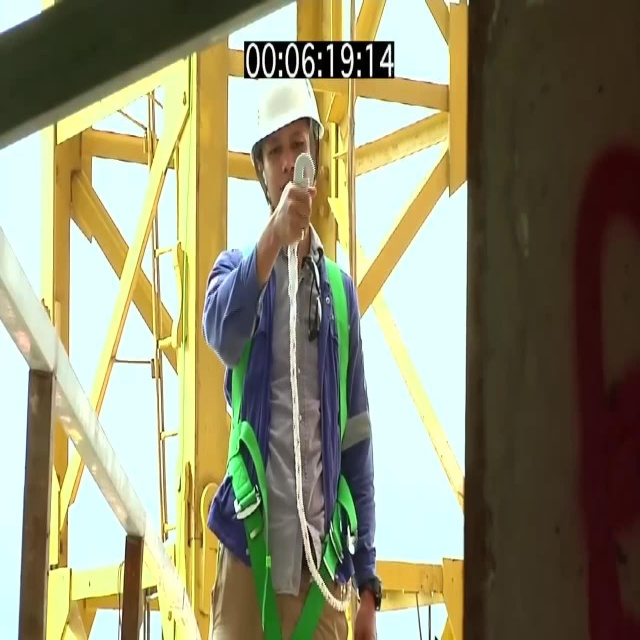Arnes_seguridad: (228, 246, 352, 632)
